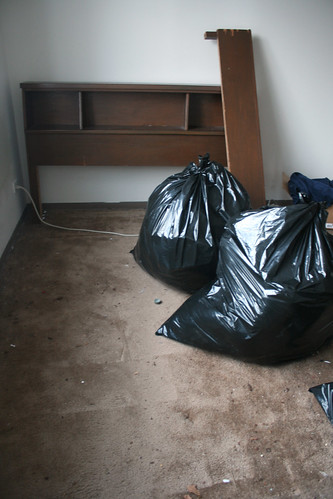trash: (133, 163, 333, 400)
